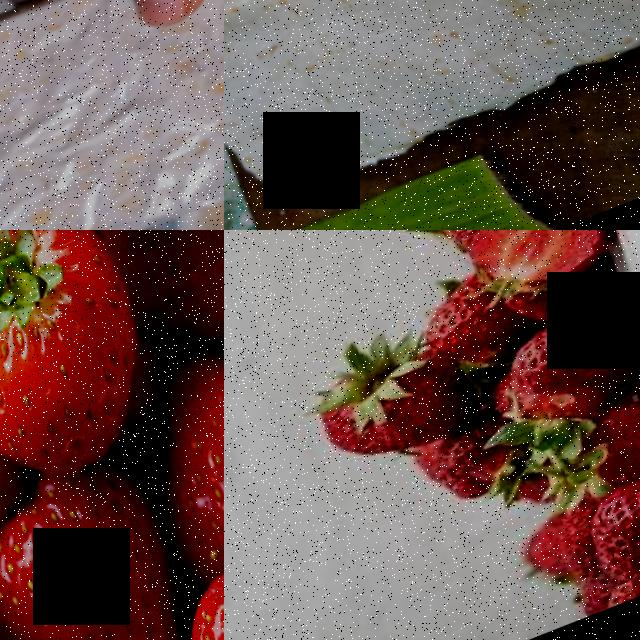strawberry: (0, 230, 207, 511), (0, 452, 224, 640), (305, 338, 481, 484), (498, 281, 640, 439), (137, 320, 224, 568), (460, 230, 628, 312), (414, 265, 520, 368), (583, 435, 640, 581), (577, 374, 640, 485)
tempeh: (224, 0, 640, 230), (0, 0, 224, 230)
